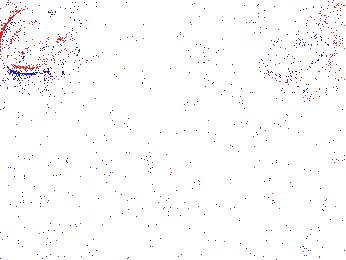moon jellyfish: (169, 24, 257, 129), (241, 9, 339, 83), (1, 5, 85, 75), (110, 17, 193, 78)
